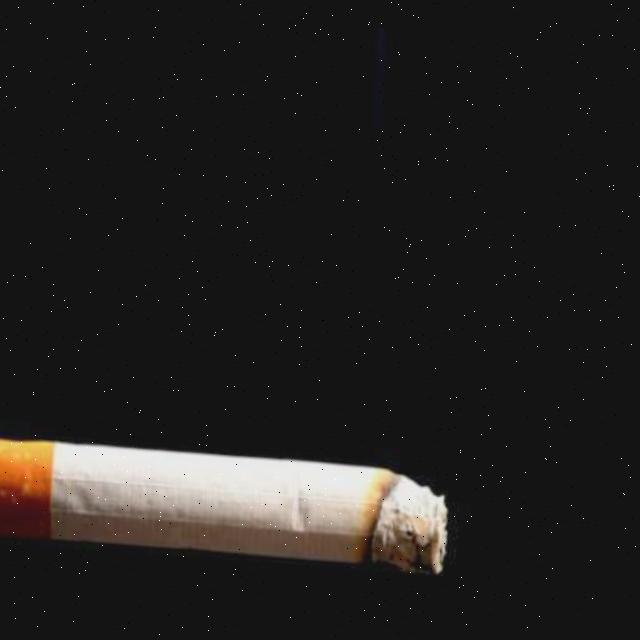cigarette: (0, 436, 456, 564)
